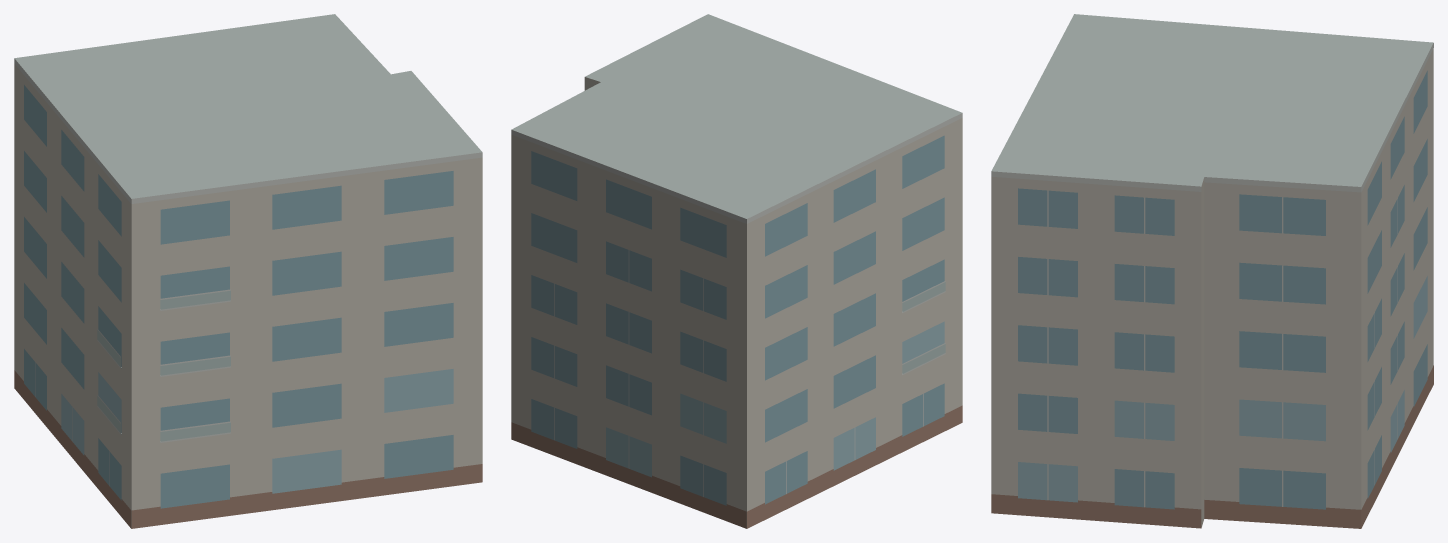
File: survey-upis-32606287.glb
The picture shows the model from 3 angles, left to right: view 1: azimuth 30°, elevation 25°; view 2: azimuth 150°, elevation 25°; view 3: azimuth 270°, elevation 25°; orthographic projection. The views are drawn at different scales.
Visible parts, largest first — view 1: survey-upis-32606287.tmp; view 2: survey-upis-32606287.tmp; view 3: survey-upis-32606287.tmp.
Boxes of the visible parts, x1,y1,x2,y2 form: survey-upis-32606287.tmp: [14, 14, 482, 528]; survey-upis-32606287.tmp: [511, 14, 962, 528]; survey-upis-32606287.tmp: [991, 14, 1433, 528].
Bounding box in the file's own units: 16.72 × 15.4 × 18.07.
